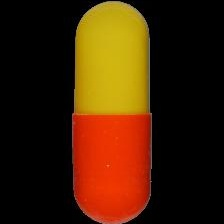16590-216: (0, 0, 224, 224)
